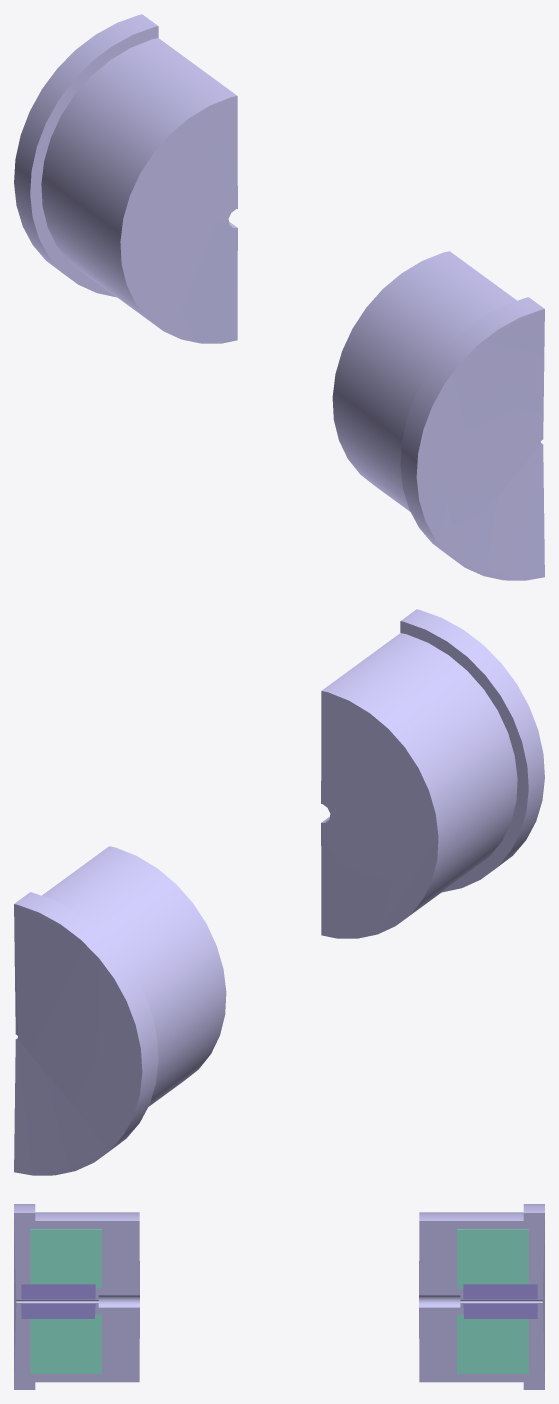
Rendered from calorimeter-lar-endcap-cut-2.glb.
3 views of the same model, one above another, from view 1: azimuth 30°, elevation 25°; view 2: azimuth 150°, elevation 25°; view 3: azimuth 270°, elevation 25° (orthographic). The views are drawn at different scales.
Parts seen in each view (by area): view 1: side c cut 2.001, side a cut 2; view 2: side a cut 2, side c cut 2.001; view 3: side a cut 2, side c cut 2.001.
Boxes of the visible parts, x1,y1,x2,y2 form: side c cut 2.001: (14,14,237,343); side a cut 2: (332,251,544,580); side a cut 2: (321,609,544,938); side c cut 2.001: (14,846,226,1175); side a cut 2: (14,1204,139,1389); side c cut 2.001: (419,1204,544,1389).
Bounding box in the file's own units: 2.48 × 4.94 × 13.44.
